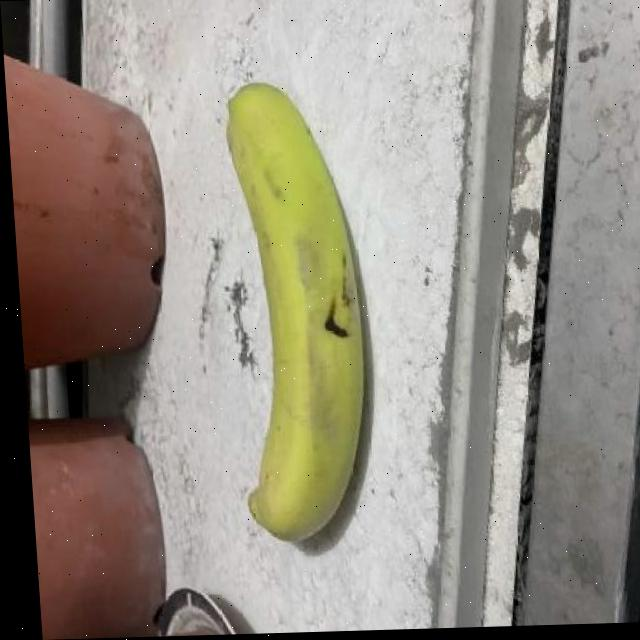banana: (204, 64, 391, 565)
